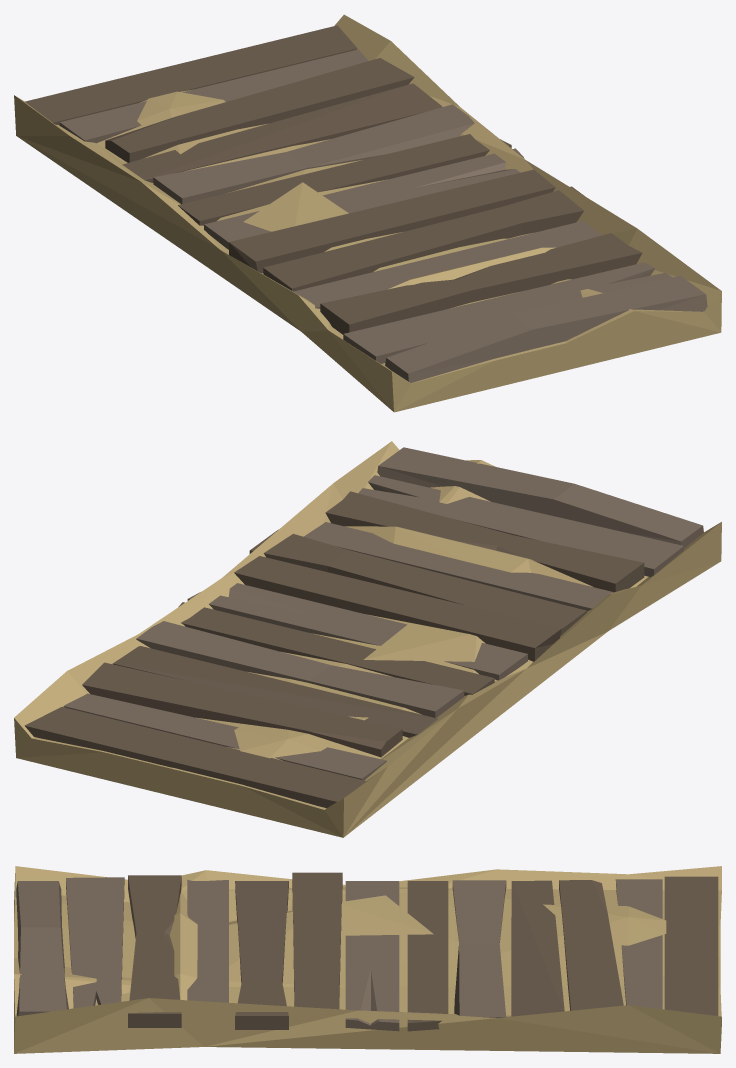
Rendered from aWoodRoad3.obj.
3 views of the same model, one above another, from view 1: azimuth 30°, elevation 25°; view 2: azimuth 150°, elevation 25°; view 3: azimuth 270°, elevation 25° (orthographic). The views are drawn at different scales.
Parts seen in each view (by area): view 1: Road_wood_4_Mesh.023; view 2: Road_wood_4_Mesh.023; view 3: Road_wood_4_Mesh.023.
Part boxes in pixels (bbox=[...]): Road_wood_4_Mesh.023: bbox=[14, 14, 721, 412]; Road_wood_4_Mesh.023: bbox=[14, 441, 721, 837]; Road_wood_4_Mesh.023: bbox=[14, 866, 721, 1053].
Bounding box in the file's own units: 3.02 × 0.4736 × 6.01.
